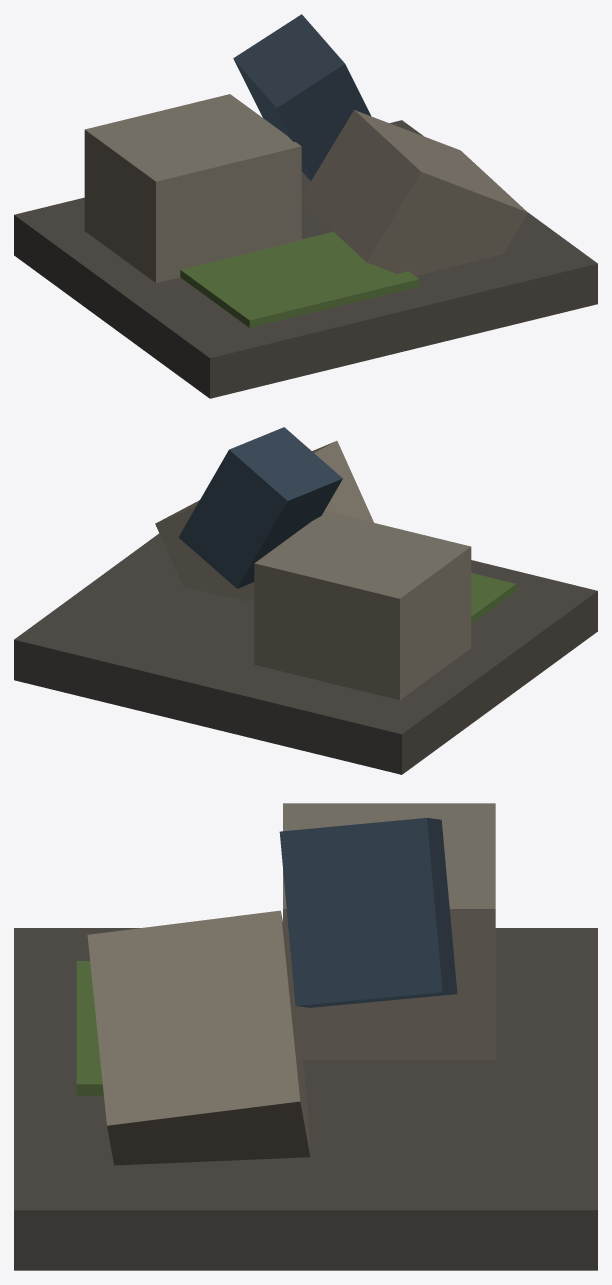
The model's file is rubble_low.glb.
3 views of the same model, one above another, from view 1: azimuth 30°, elevation 25°; view 2: azimuth 150°, elevation 25°; view 3: azimuth 270°, elevation 25° (orthographic). The views are drawn at different scales.
Visible parts, largest first — view 1: Debris bed, Concrete block, Concrete block.001, Moss patch, Concrete block.002; view 2: Debris bed, Concrete block, Concrete block.002, Concrete block.001, Moss patch; view 3: Debris bed, Concrete block.001, Concrete block.002, Concrete block, Moss patch.
Part boxes in pixels (left/top/right/bottom): Debris bed: left=14, top=120, right=597, bottom=398; Concrete block: left=84, top=94, right=301, bottom=283; Concrete block.001: left=301, top=110, right=527, bottom=276; Moss patch: left=180, top=231, right=419, bottom=327; Concrete block.002: left=233, top=14, right=370, bottom=181; Debris bed: left=14, top=533, right=597, bottom=774; Concrete block: left=254, top=511, right=471, bottom=700; Concrete block.002: left=178, top=427, right=342, bottom=588; Concrete block.001: left=155, top=441, right=373, bottom=601; Moss patch: left=471, top=573, right=516, bottom=623; Debris bed: left=14, top=928, right=597, bottom=1270; Concrete block.001: left=87, top=910, right=310, bottom=1165; Concrete block.002: left=279, top=818, right=457, bottom=1007; Concrete block: left=283, top=803, right=495, bottom=1060; Moss patch: left=76, top=961, right=103, bottom=1095.
Bounding box in the file's own units: 1.6 × 0.9106 × 1.4.
